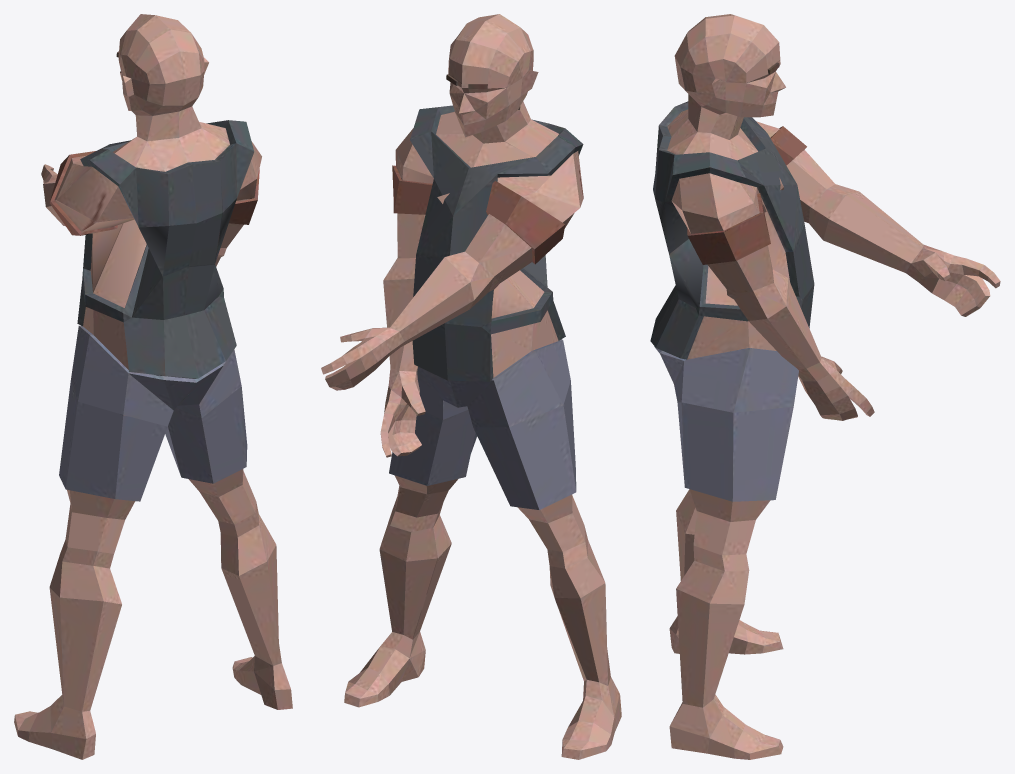
Rendered from inf_civ_1_armed.glb.
3 renders of one model, left to right at view 1: azimuth 30°, elevation 25°; view 2: azimuth 150°, elevation 25°; view 3: azimuth 270°, elevation 25°, orthographic.
Parts seen in each view (by area): view 1: inf_civ_1_armed; view 2: inf_civ_1_armed; view 3: inf_civ_1_armed.
Part boxes in pixels (box(x1,y1,x2,y2)): inf_civ_1_armed: box(14, 14, 292, 759); inf_civ_1_armed: box(321, 14, 621, 759); inf_civ_1_armed: box(650, 14, 1000, 759).
Size of the model in its own units: 0.7259 by 1.86 by 0.8649.
Materials: 1 (1 with a texture image).
